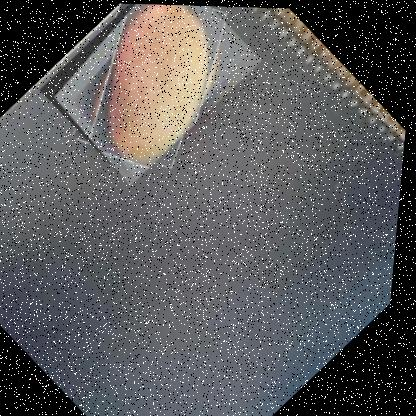mango: (31, 1, 266, 187)
